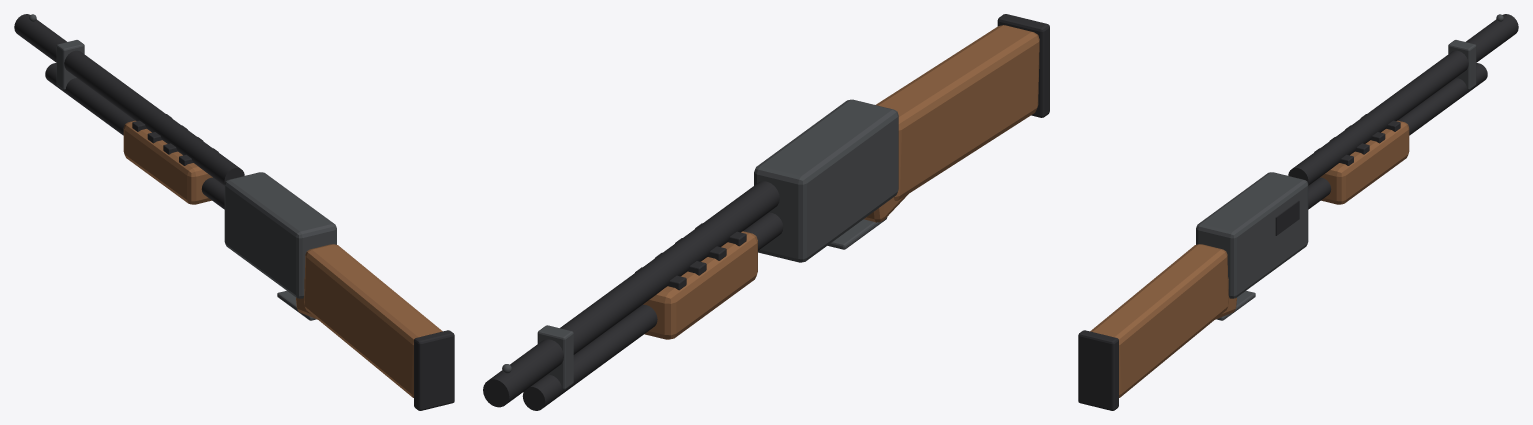
3 views of the same model, side by side, from view 1: azimuth 30°, elevation 25°; view 2: azimuth 150°, elevation 25°; view 3: azimuth 330°, elevation 25° (orthographic). The views are drawn at different scales.
Parts seen in each view (by area): view 1: Stock, Receiver, Barrel, PumpBody, ButtPlate, MagTube, BarrelClamp; view 2: Stock, Receiver, Barrel, PumpBody, MagTube, ButtPlate, BarrelClamp, TriggerGuard; view 3: Stock, Receiver, Barrel, PumpBody, ButtPlate, MagTube, BarrelClamp, EjectionPort.
Part boxes in pixels (x1,y1,x2,y2): Stock: [304, 244, 442, 397]; Receiver: [224, 172, 336, 298]; Barrel: [14, 14, 244, 185]; PumpBody: [123, 120, 212, 204]; ButtPlate: [414, 330, 454, 410]; MagTube: [45, 63, 224, 209]; BarrelClamp: [56, 40, 84, 89]; Stock: [876, 25, 1039, 200]; Receiver: [754, 99, 898, 262]; Barrel: [483, 181, 779, 407]; PumpBody: [643, 231, 757, 339]; MagTube: [522, 212, 783, 410]; ButtPlate: [997, 14, 1049, 117]; BarrelClamp: [537, 325, 573, 389]; TriggerGuard: [827, 217, 887, 249]; Stock: [1090, 244, 1228, 397]; Receiver: [1196, 172, 1308, 298]; Barrel: [1288, 14, 1518, 185]; PumpBody: [1320, 120, 1409, 204]; ButtPlate: [1078, 330, 1118, 410]; MagTube: [1308, 63, 1487, 209]; BarrelClamp: [1448, 40, 1476, 89]; EjectionPort: [1275, 200, 1299, 235].
Size of the model in its own units: 0.0573 by 0.1275 by 0.9825.
